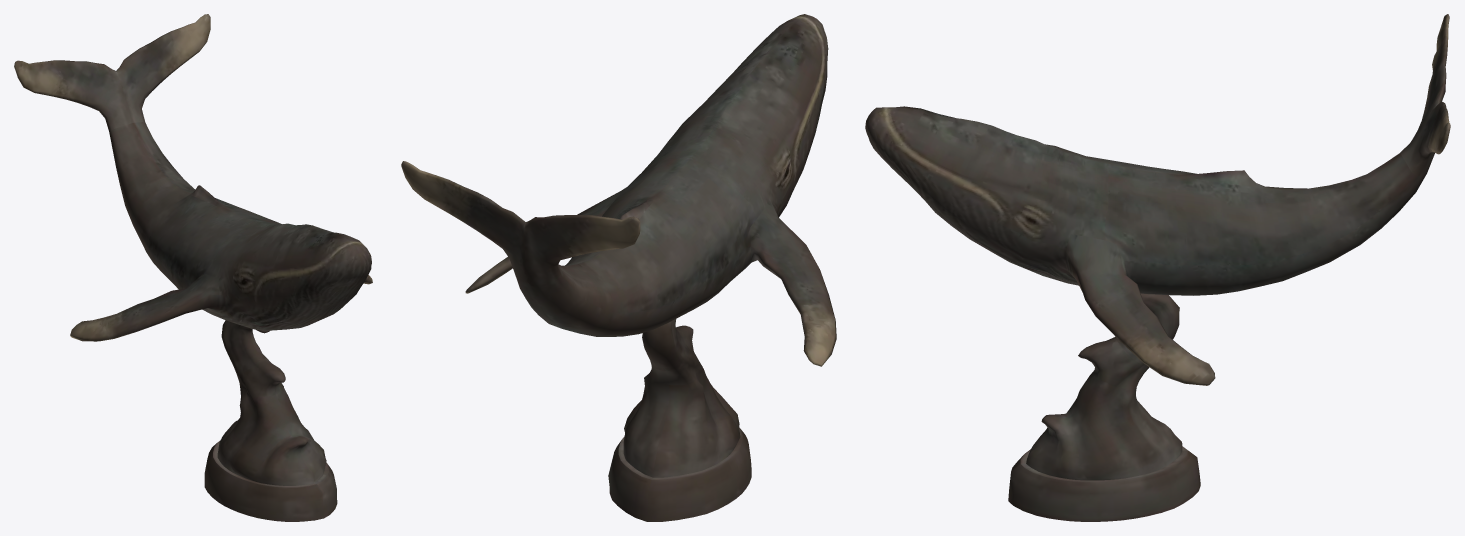
Rendered from bronze_whale_statue.glb.
The picture shows the model from 3 angles, left to right: view 1: azimuth 30°, elevation 25°; view 2: azimuth 150°, elevation 25°; view 3: azimuth 270°, elevation 25°; orthographic projection. The views are drawn at different scales.
Parts seen in each view (by area): view 1: bronze_whale_statue; view 2: bronze_whale_statue; view 3: bronze_whale_statue.
Boxes of the visible parts, bbox=[...] form: bronze_whale_statue: bbox=[14, 14, 372, 521]; bronze_whale_statue: bbox=[401, 14, 836, 521]; bronze_whale_statue: bbox=[865, 14, 1450, 521].
Bounding box in the file's own units: 0.932 × 1.07 × 1.37.
Materials: 1 (1 with a texture image).
